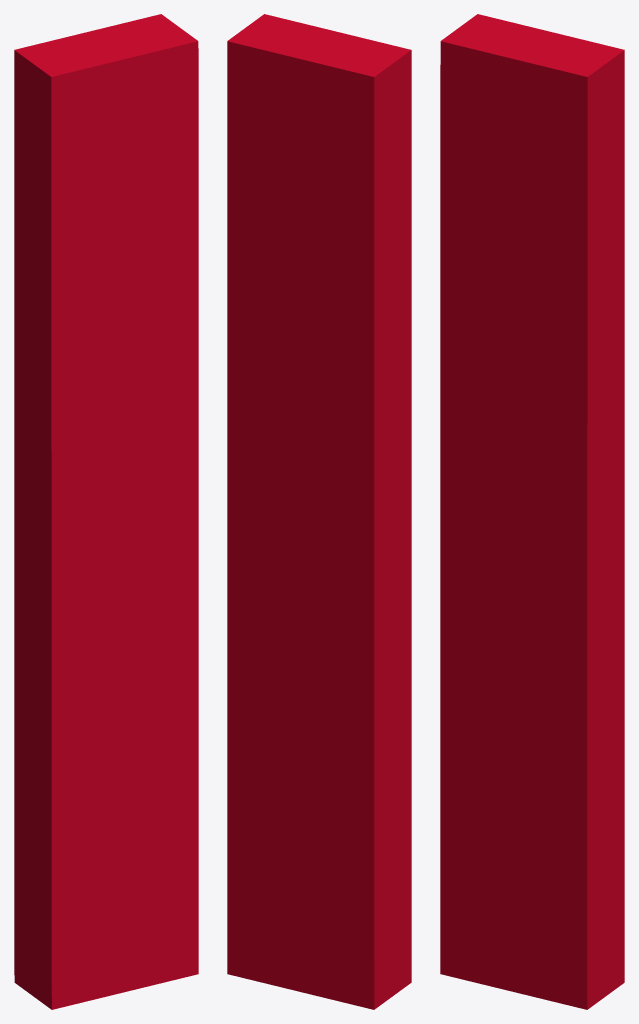
3 renders of one model, left to right at view 1: azimuth 30°, elevation 25°; view 2: azimuth 150°, elevation 25°; view 3: azimuth 330°, elevation 25°, orthographic.
Bounding box in the file's own units: 1.14 × 6.92 × 0.5039.
